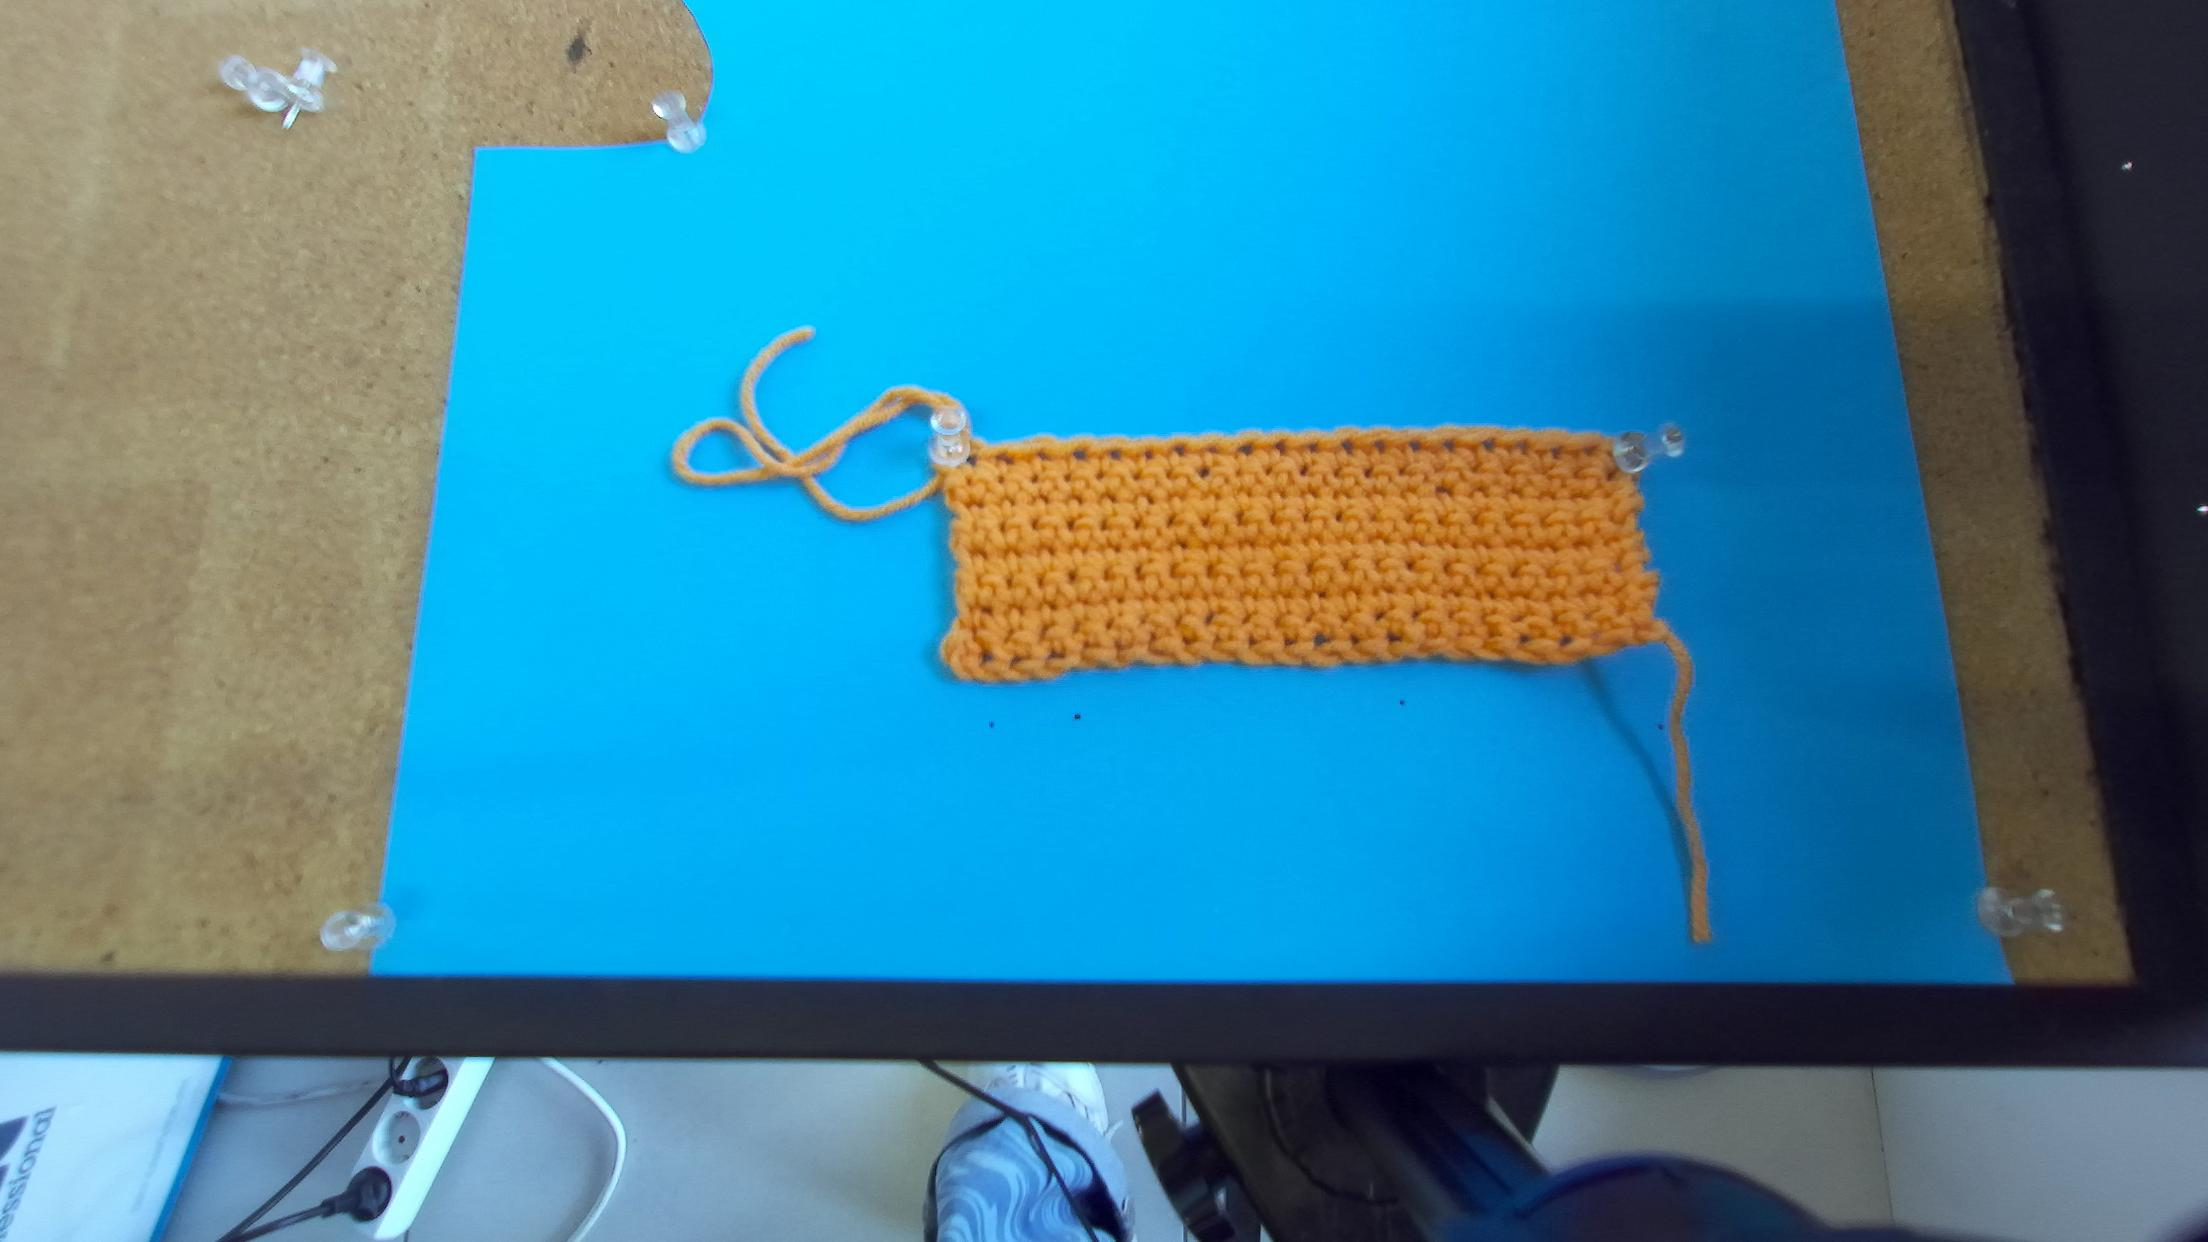hole: (1441, 438, 1456, 454), (995, 452, 1013, 465), (1406, 440, 1423, 453), (1479, 438, 1495, 451), (1235, 443, 1252, 455), (1171, 445, 1187, 457), (1274, 441, 1286, 457), (1372, 439, 1384, 455), (1514, 441, 1531, 452), (1582, 444, 1599, 455), (1341, 440, 1353, 455), (1071, 449, 1087, 460), (1547, 446, 1564, 456), (1037, 449, 1051, 460), (1204, 444, 1220, 453), (1110, 449, 1121, 461), (966, 455, 977, 466), (1306, 442, 1318, 452), (1145, 449, 1154, 462)
swatch: (936, 429, 1666, 688)
